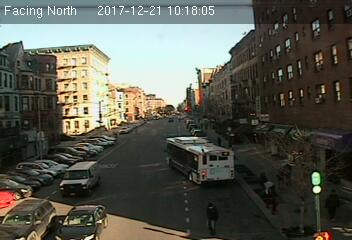bus: (164, 136, 237, 184)
car: (1, 195, 56, 240), (54, 203, 104, 240)
pedestrian: (203, 200, 221, 236)
truck: (61, 160, 97, 197)
